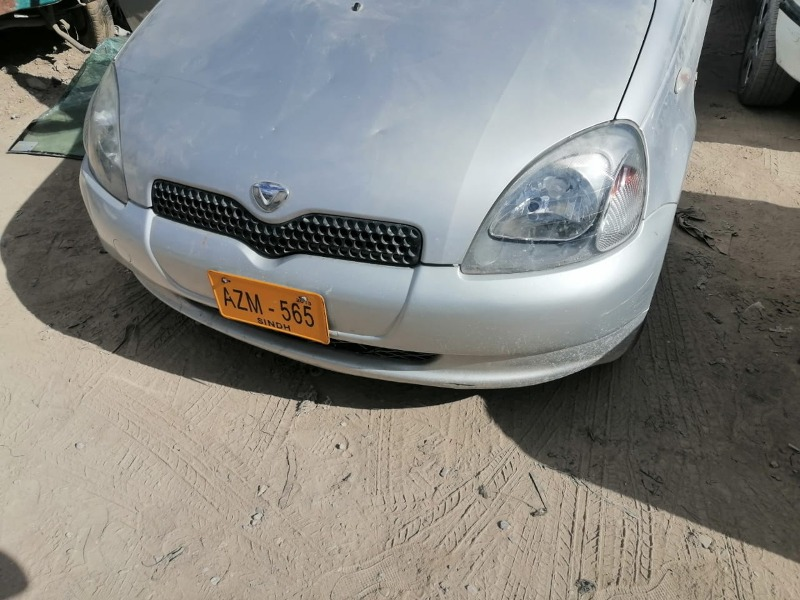License Plate: (206, 267, 331, 347)
